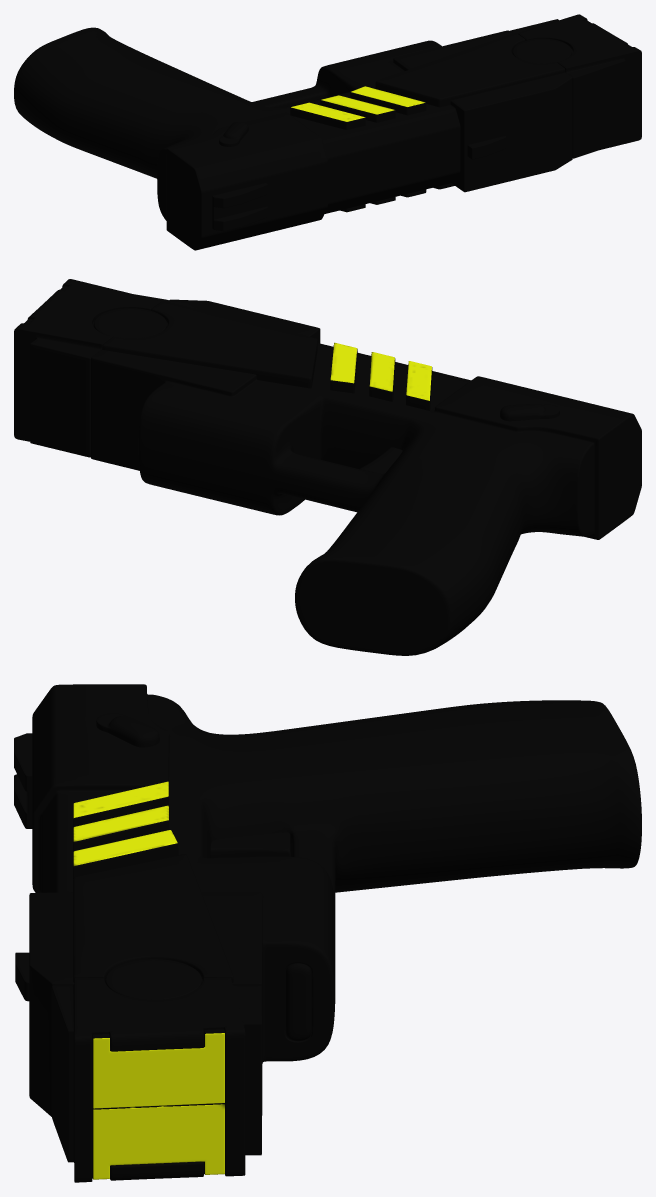
Rendered from taser.fbx.
3 renders of one model, top to bottom at view 1: azimuth 30°, elevation 25°; view 2: azimuth 150°, elevation 25°; view 3: azimuth 270°, elevation 25°, orthographic. The views are drawn at different scales.
Visible parts, largest first — view 1: 19761_Stun_Gun_v1; view 2: 19761_Stun_Gun_v1; view 3: 19761_Stun_Gun_v1.
Part boxes in pixels (x1,y1,x2,y2): 19761_Stun_Gun_v1: [14, 14, 641, 250]; 19761_Stun_Gun_v1: [14, 279, 641, 655]; 19761_Stun_Gun_v1: [14, 684, 641, 1182].
Size of the model in its own units: 2045 by 404 by 1450.
